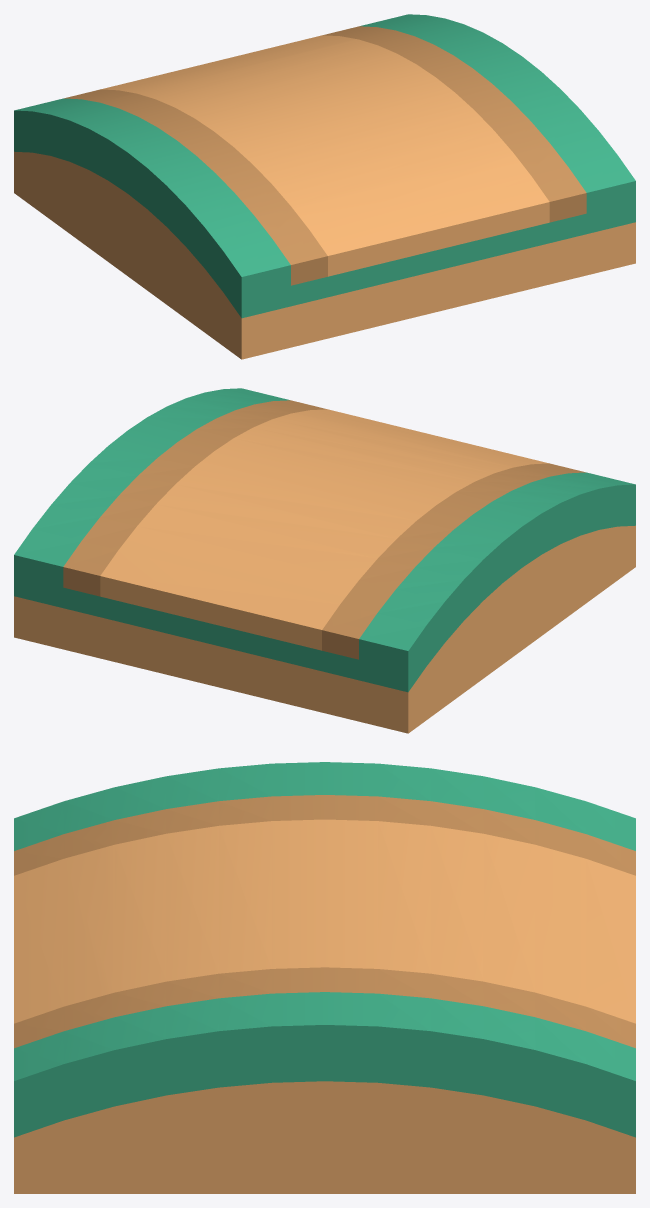
The model's file is tile_bump(+).fbx.
The picture shows the model from 3 angles, top to bottom: view 1: azimuth 30°, elevation 25°; view 2: azimuth 150°, elevation 25°; view 3: azimuth 270°, elevation 25°; orthographic projection. The views are drawn at different scales.
Parts seen in each view (by area): view 1: Mesh_0; view 2: Mesh_0; view 3: Mesh_0.
Part boxes in pixels (x1,y1,x2,y2): Mesh_0: (14, 14, 635, 359); Mesh_0: (14, 388, 635, 733); Mesh_0: (14, 762, 635, 1193).
Bounding box in the file's own units: 100 × 30 × 100.
